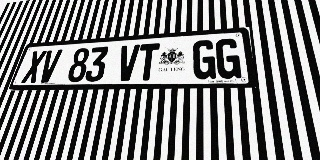3: (84, 46, 109, 82)
8: (66, 47, 92, 82)
G: (216, 38, 242, 79), (193, 40, 216, 79)
T: (136, 43, 160, 81)
V: (116, 44, 140, 81), (37, 49, 63, 83)
X: (21, 50, 47, 83)
